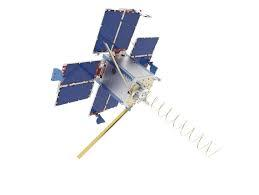antenna: (141, 89, 225, 159), (75, 107, 131, 161)
body: (93, 52, 158, 108)
solar: (91, 7, 143, 57), (53, 59, 103, 107), (128, 35, 161, 74), (87, 84, 120, 118)
